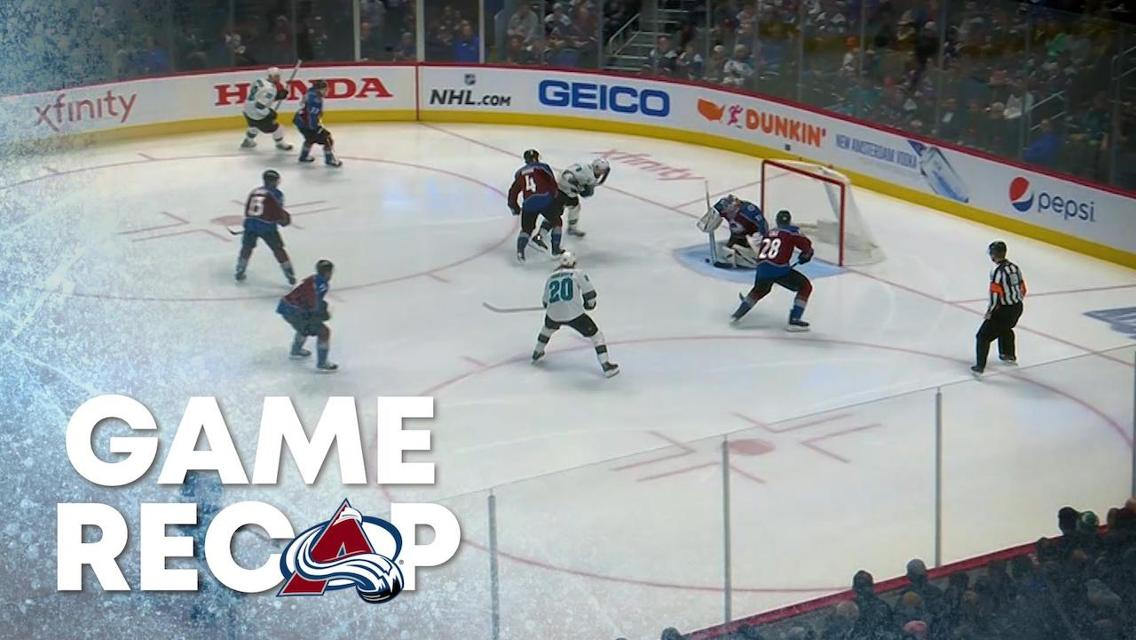geico: (533, 73, 681, 125)
